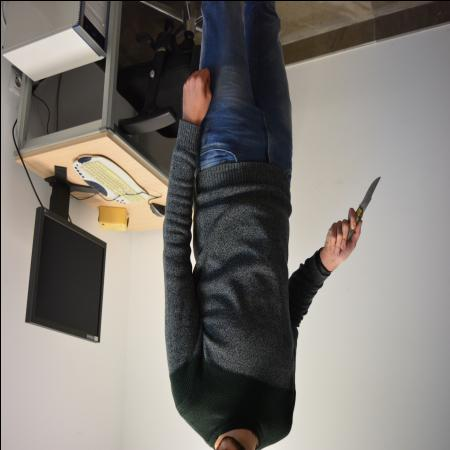long weapon: (336, 172, 382, 252)
